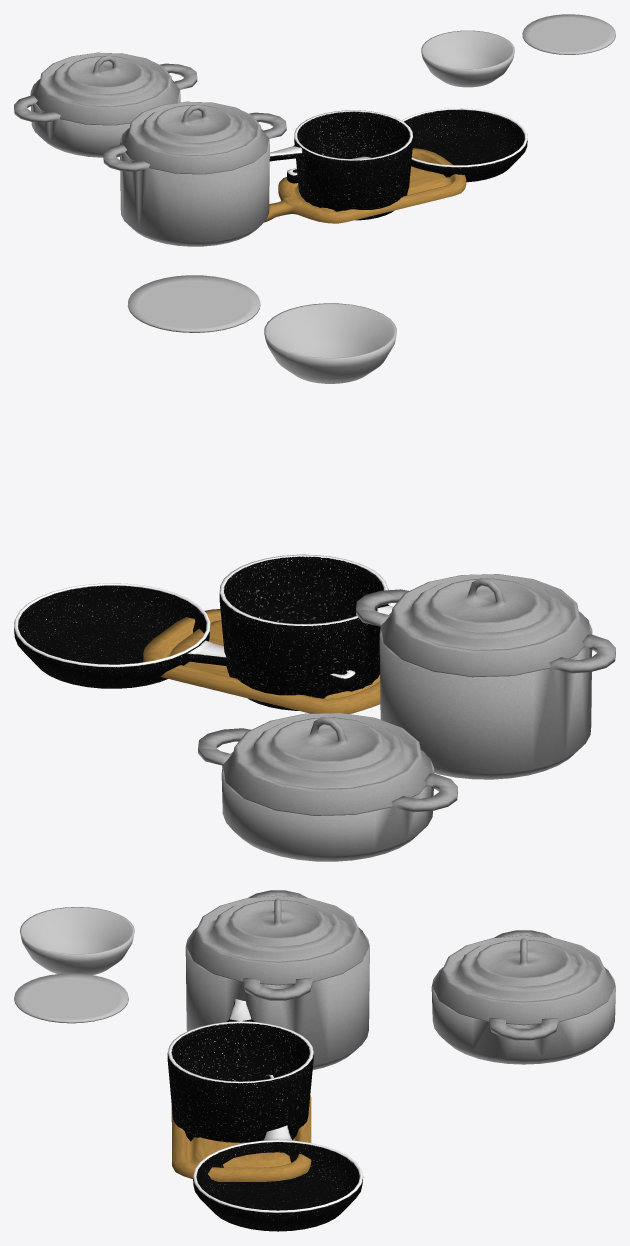
The model's file is pan deep.glb.
The picture shows the model from 3 angles, top to bottom: view 1: azimuth 30°, elevation 25°; view 2: azimuth 150°, elevation 25°; view 3: azimuth 270°, elevation 25°; orthographic projection. The views are drawn at different scales.
Parts seen in each view (by area): view 1: cookingpot, pan, cookingpotpot, cookingpotpot.001, stove, bowl, cuttingboard, cookingpot.001, plate; view 2: cookingpot, pan, cookingpotpot.001, cookingpotpot, stove, cookingpot.001, bowl, plate, cuttingboard; view 3: pan, cookingpotpot.001, cookingpotpot, cookingpot, stove, cookingpot.001, bowl, plate, cuttingboard.
Boxes of the visible parts, x1,y1,x2,y2 form: cookingpot: (103,112,286,246); pan: (269,110,412,220); cookingpotpot: (121,101,268,174); cookingpotpot.001: (31,52,179,125); stove: (287,108,527,183); bowl: (421,30,514,87); cuttingboard: (264,148,466,223); cookingpot.001: (14,63,197,157); plate: (522,14,615,54); cookingpot: (356,589,615,779); pan: (219,554,393,710); cookingpotpot.001: (223,713,432,815); cookingpotpot: (381,574,590,677); stove: (14,583,355,689); cookingpot.001: (198,728,457,861); bowl: (264,303,396,383); plate: (127,275,260,332); cuttingboard: (143,609,380,713); pan: (167,999,313,1142); cookingpotpot.001: (432,935,615,1025); cookingpotpot: (186,895,369,985); cookingpot: (185,890,369,1069); stove: (193,1075,363,1231); cookingpot.001: (431,930,615,1064); bowl: (20,907,134,974); plate: (14,973,128,1023); cuttingboard: (171,1096,311,1181).
Size of the model in its own units: 12.34 by 5.3 by 12.54.
Materials: 6 (6 with a texture image).
